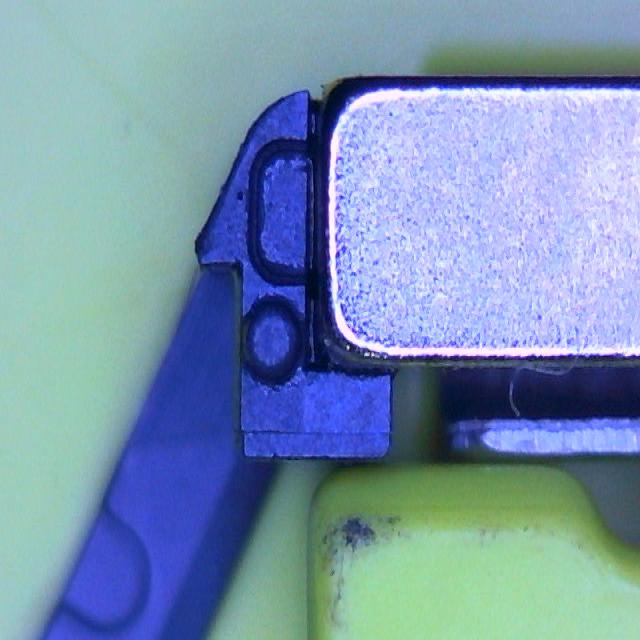lacking: (246, 136, 316, 289)
